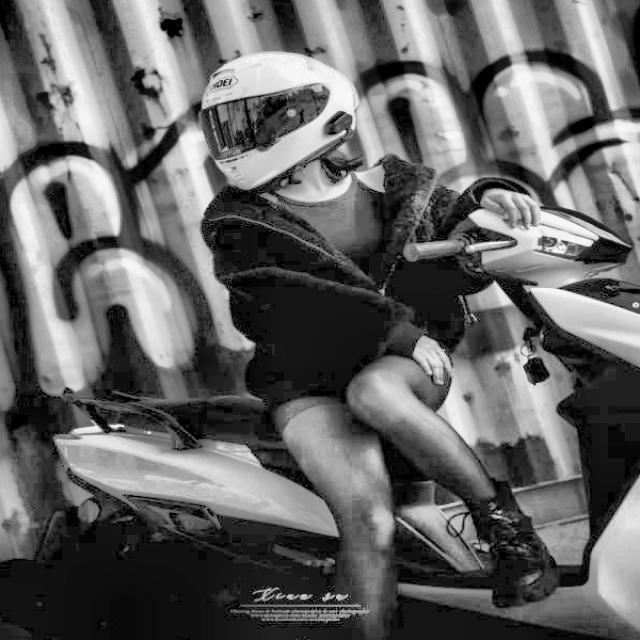Helmet: (194, 47, 365, 199)
